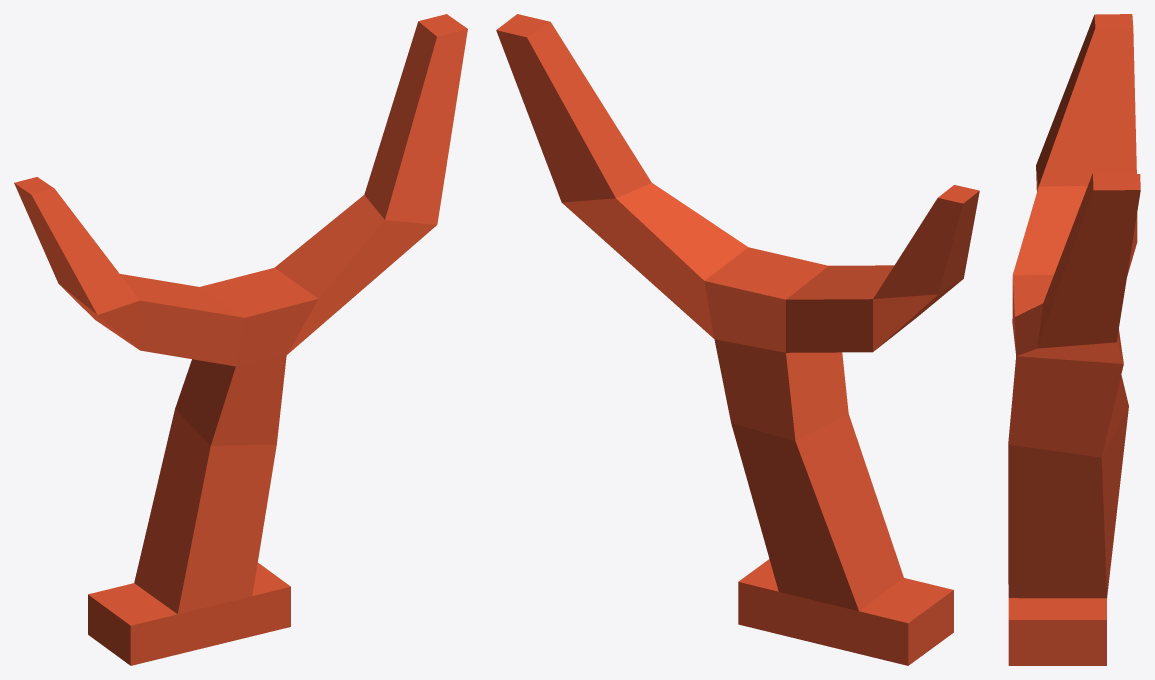
File: Tree3.dae
The picture shows the model from 3 angles, left to right: view 1: azimuth 30°, elevation 25°; view 2: azimuth 150°, elevation 25°; view 3: azimuth 270°, elevation 25°; orthographic projection. The views are drawn at different scales.
Parts seen in each view (by area): view 1: CubeBaum; view 2: CubeBaum; view 3: CubeBaum.
Boxes of the visible parts, x1,y1,x2,y2 form: CubeBaum: [14, 14, 467, 665]; CubeBaum: [496, 14, 979, 665]; CubeBaum: [1008, 14, 1140, 665].
Size of the model in its own units: 11.76 by 2.69 by 13.34.
